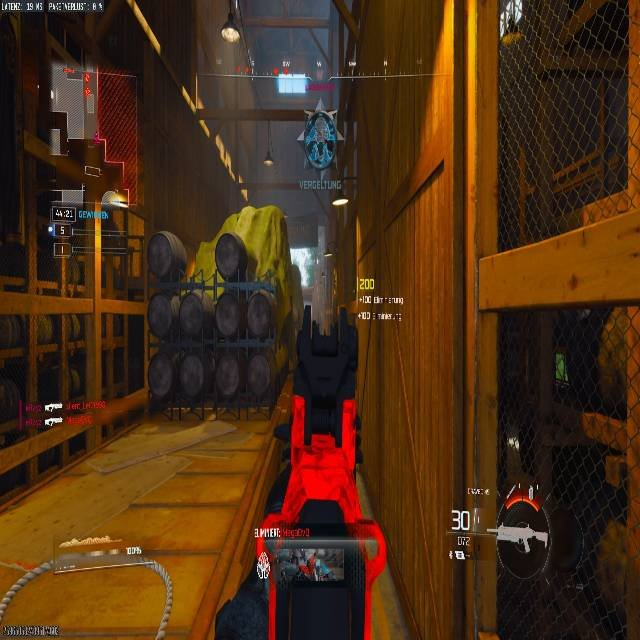player: (303, 107, 338, 167), (446, 516, 469, 561)
